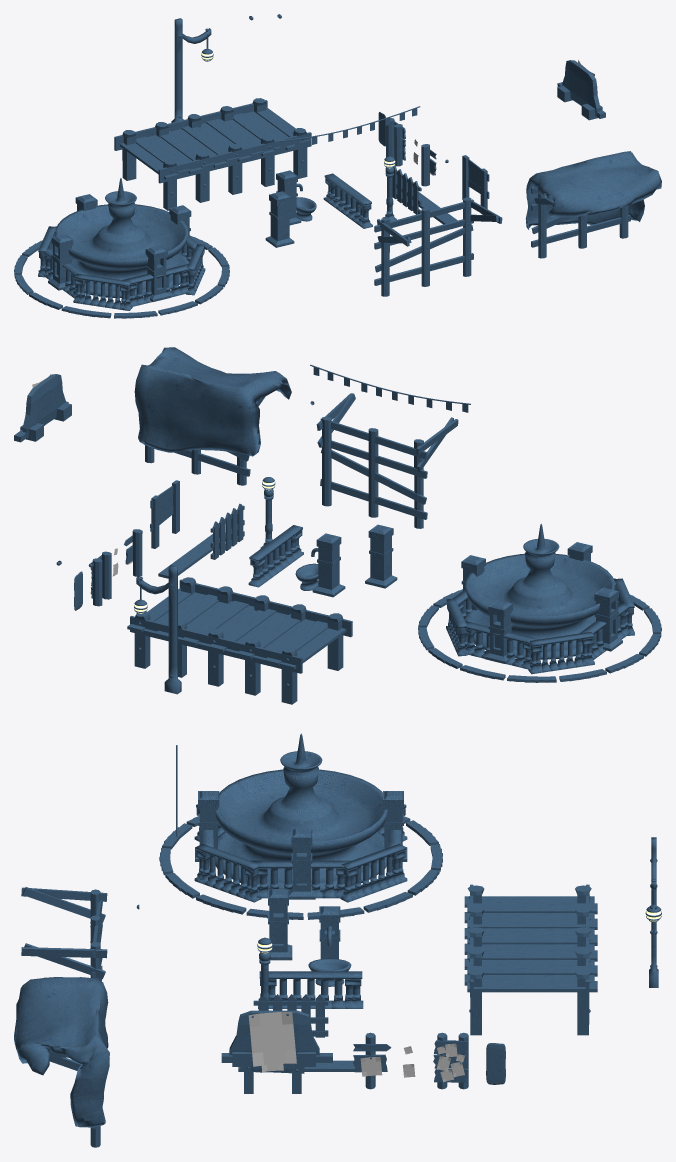
Rendered from lampione.fbx.
The picture shows the model from 3 angles, top to bottom: view 1: azimuth 30°, elevation 25°; view 2: azimuth 150°, elevation 25°; view 3: azimuth 270°, elevation 25°; orthographic projection. The views are drawn at different scales.
Parts seen in each view (by area): view 1: BezierCurve.002, Sphere.007, Grid, Sphere.017, Sphere.008, Cube.001, Plane, Sphere.011, BezierCurve.003, BezierCurve, Plane.001, Sphere.004 (+4 smaller); view 2: BezierCurve.002, Sphere.007, Grid, Sphere.017, BezierCurve, Cube.001, Plane, Sphere.011, BezierCurve.003, Plane.001, Sphere.008, Sphere.004 (+5 smaller); view 3: BezierCurve.002, Sphere.007, Grid, Sphere.011, Sphere.017, Cube.001, BezierCurve, BezierCurve.003, Sphere.004, Sphere.001, Plane, Sphere.003 (+4 smaller).
Boxes of the visible parts, left/top/right/bottom form: BezierCurve.002: left=14, top=178, right=229, bottom=318; Sphere.007: left=114, top=98, right=311, bottom=210; Grid: left=525, top=151, right=661, bottom=229; Sphere.017: left=374, top=197, right=502, bottom=296; Sphere.008: left=531, top=187, right=630, bottom=258; Cube.001: left=323, top=173, right=372, bottom=228; Plane: left=171, top=18, right=213, bottom=122; Sphere.011: left=562, top=60, right=600, bottom=116; BezierCurve.003: left=265, top=191, right=294, bottom=247; BezierCurve: left=276, top=170, right=316, bottom=225; Plane.001: left=462, top=155, right=489, bottom=214; Sphere.004: left=392, top=165, right=421, bottom=214; BezierCurve.002: left=418, top=523, right=661, bottom=682; Sphere.007: left=127, top=577, right=352, bottom=704; Grid: left=134, top=347, right=291, bottom=456; Sphere.017: left=316, top=393, right=458, bottom=528; BezierCurve: left=295, top=533, right=345, bottom=597; Cube.001: left=248, top=525, right=303, bottom=587; Plane: left=134, top=565, right=181, bottom=694; Sphere.011: left=22, top=374, right=65, bottom=438; BezierCurve.003: left=365, top=524, right=397, bottom=588; Plane.001: left=150, top=480, right=179, bottom=548; Sphere.008: left=145, top=397, right=264, bottom=485; Sphere.004: left=210, top=503, right=244, bottom=559; BezierCurve.002: left=159, top=733, right=442, bottom=919; Sphere.007: left=464, top=884, right=597, bottom=1035; Grid: left=14, top=977, right=109, bottom=1127; Sphere.011: left=229, top=1010, right=319, bottom=1066; Sphere.017: left=21, top=887, right=107, bottom=981; Cube.001: left=258, top=971, right=363, bottom=1008; BezierCurve: left=308, top=906, right=351, bottom=986; BezierCurve.003: left=268, top=889, right=292, bottom=960; Sphere.004: left=253, top=994, right=328, bottom=1037; Sphere.001: left=433, top=1032, right=468, bottom=1089; Plane: left=645, top=837, right=661, bottom=987; Sphere.003: left=353, top=1032, right=391, bottom=1089.
Size of the model in its own units: 2191 by 580 by 1703.
